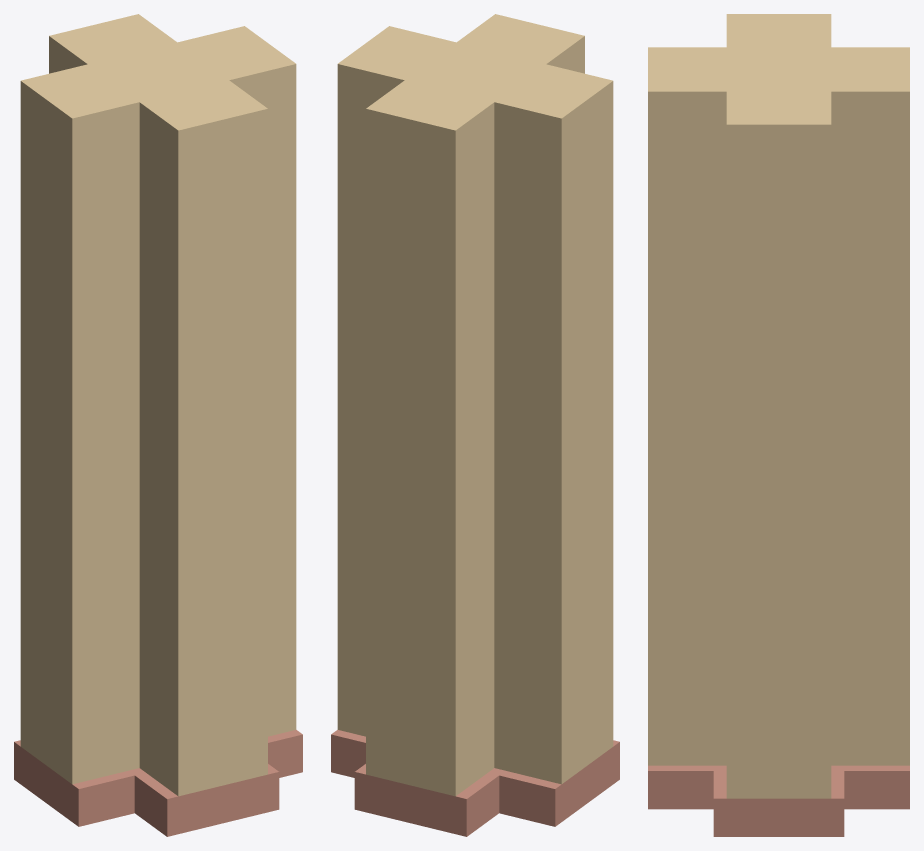
File: Wall_X.glb
3 renders of one model, left to right at view 1: azimuth 30°, elevation 25°; view 2: azimuth 150°, elevation 25°; view 3: azimuth 270°, elevation 25°, orthographic.
Visible parts, largest first — view 1: Wall_X; view 2: Wall_X; view 3: Wall_X.
Part boxes in pixels (x1=…): Wall_X: x1=14, y1=14, x2=302, y2=836; Wall_X: x1=331, y1=14, x2=619, y2=836; Wall_X: x1=648, y1=14, x2=909, y2=836.
Bounding box in the file's own units: 1 × 3 × 1.
